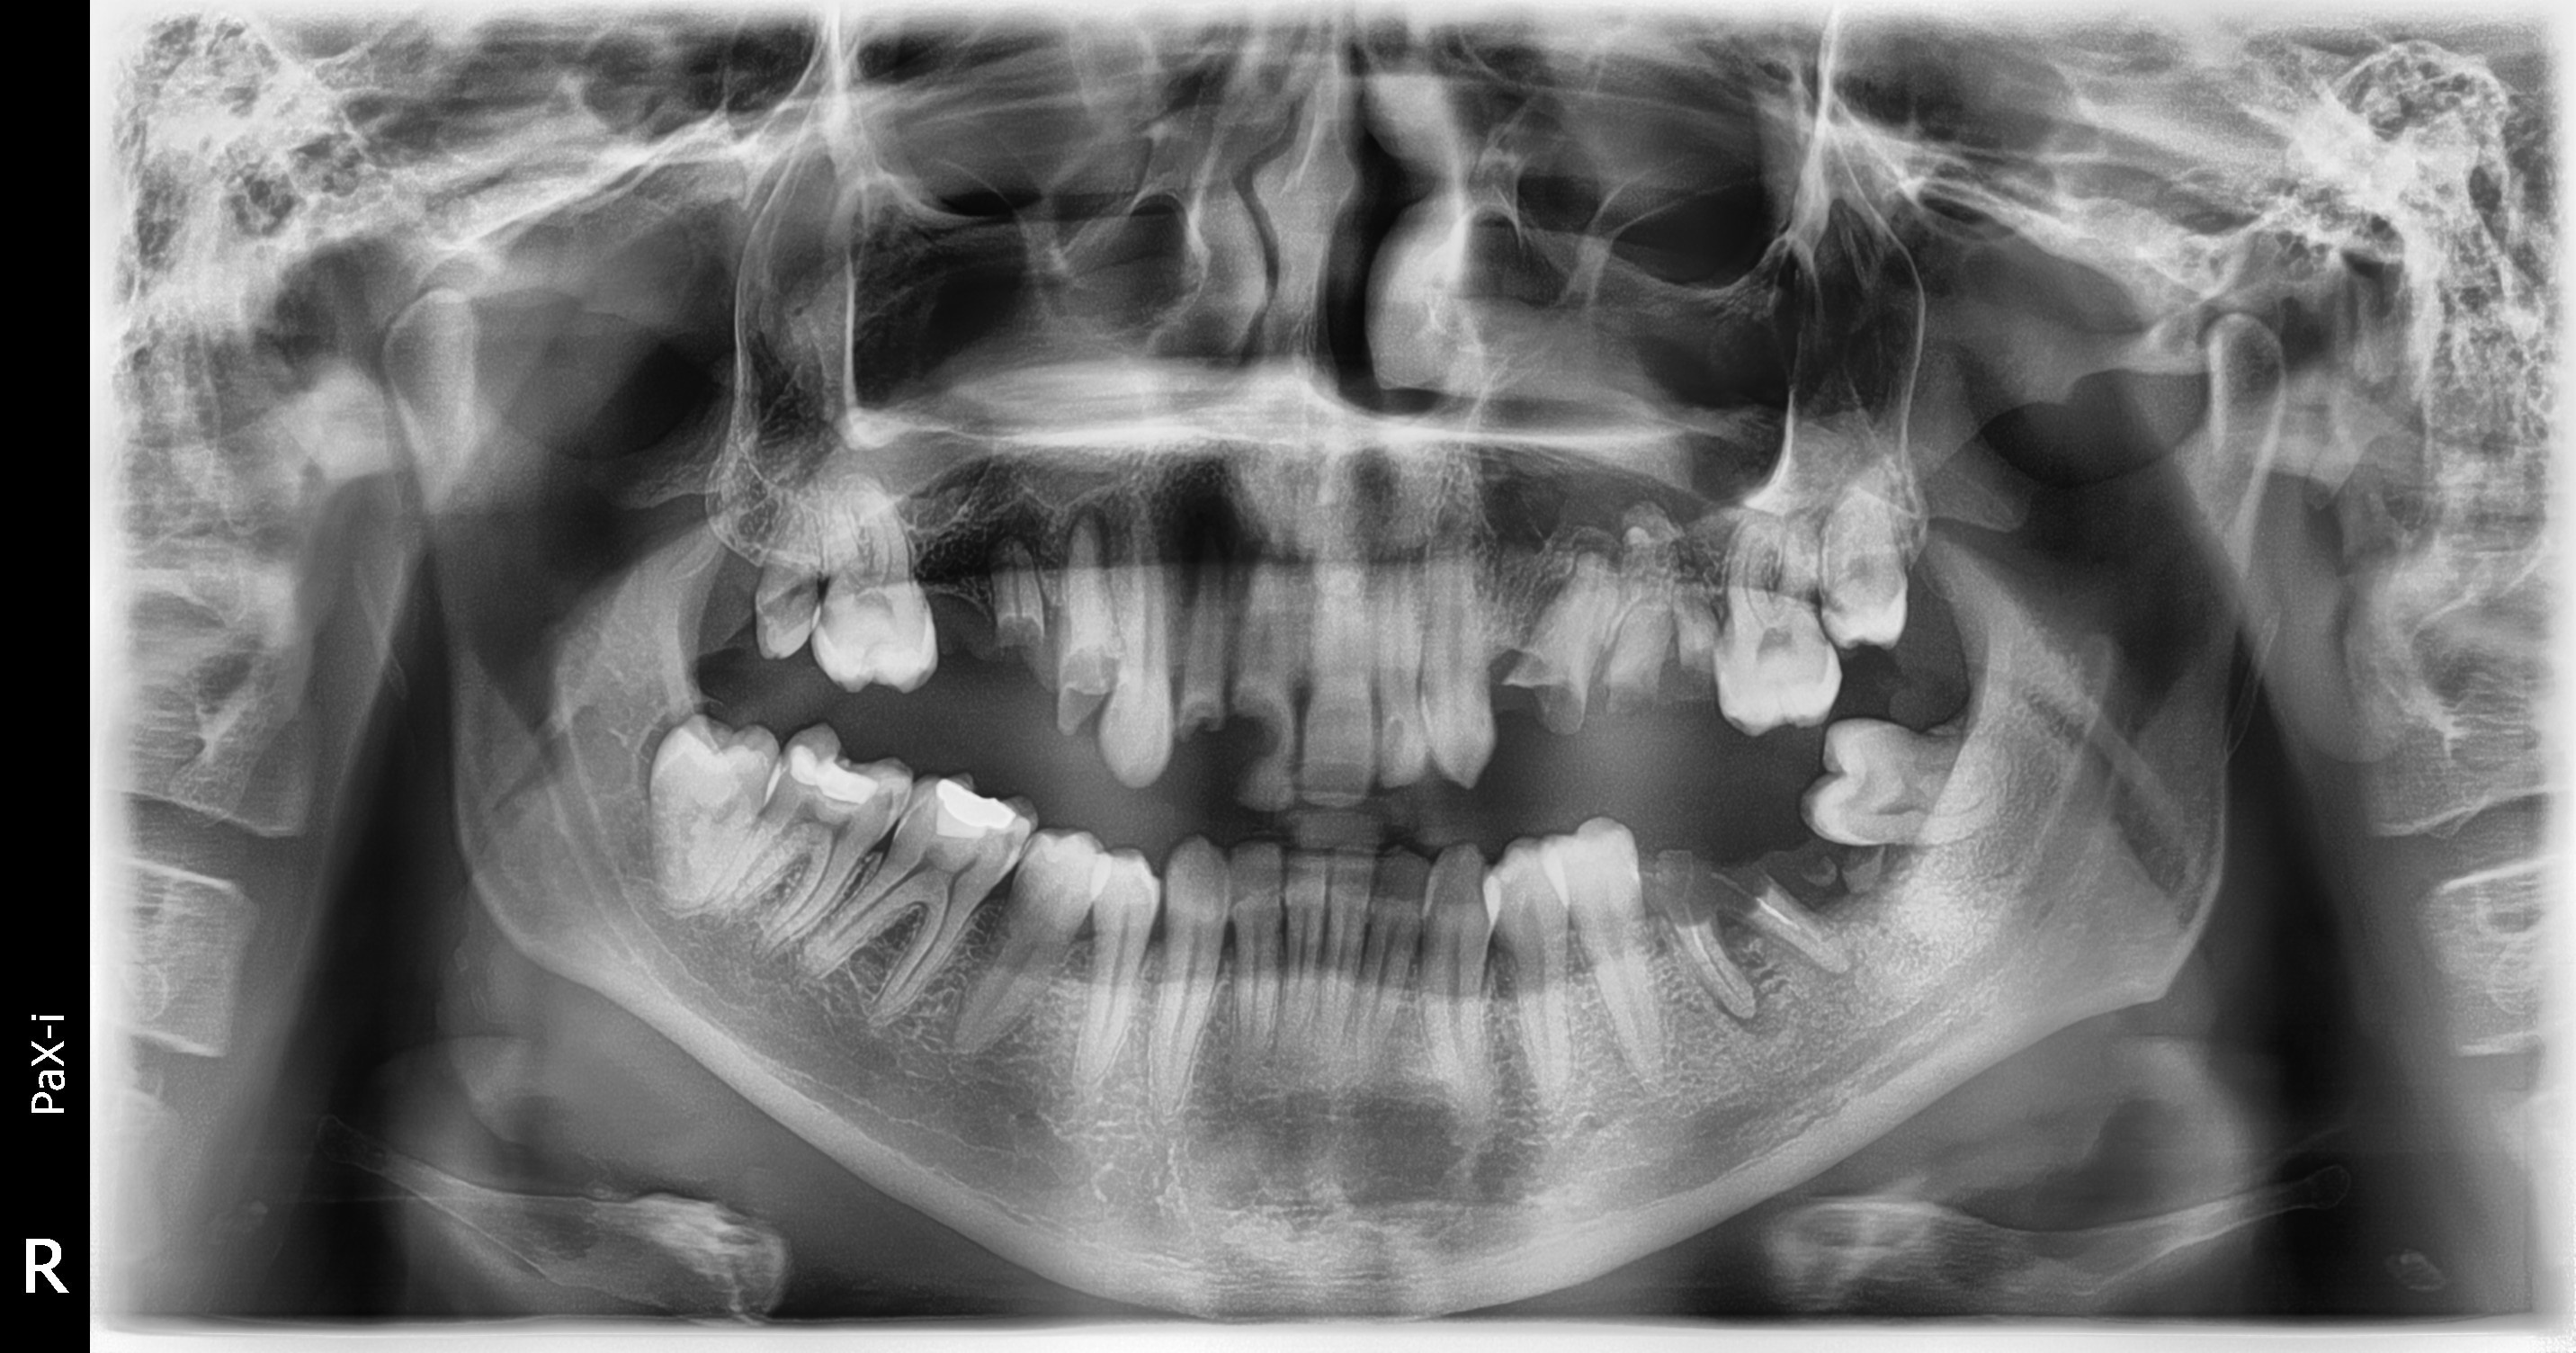API: (1065, 503, 1111, 590)
CAR: (819, 602, 837, 634)
FUR: (1712, 912, 1760, 954)
IMT: (649, 712, 782, 910)
OBT: (935, 777, 1017, 838)
ROT: (990, 533, 1046, 642)
